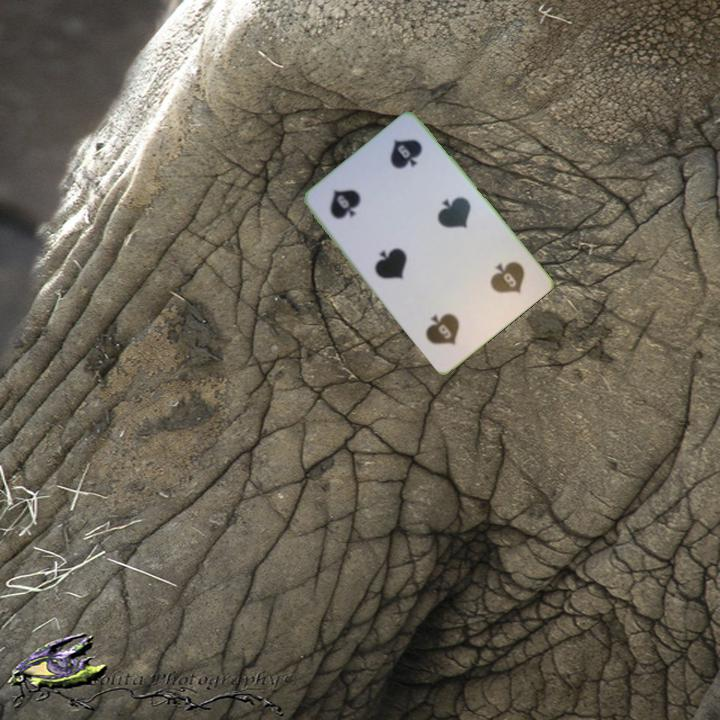s_6.png: (311, 159, 398, 244), (456, 240, 542, 325)
